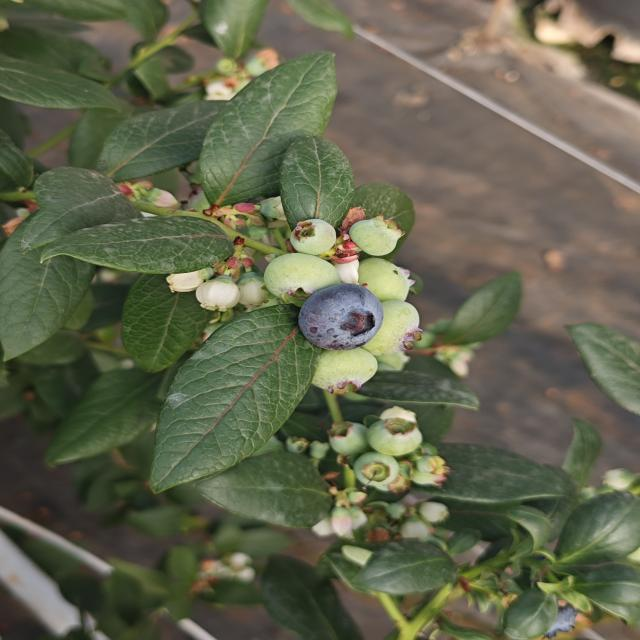ripe: (295, 279, 389, 353)
